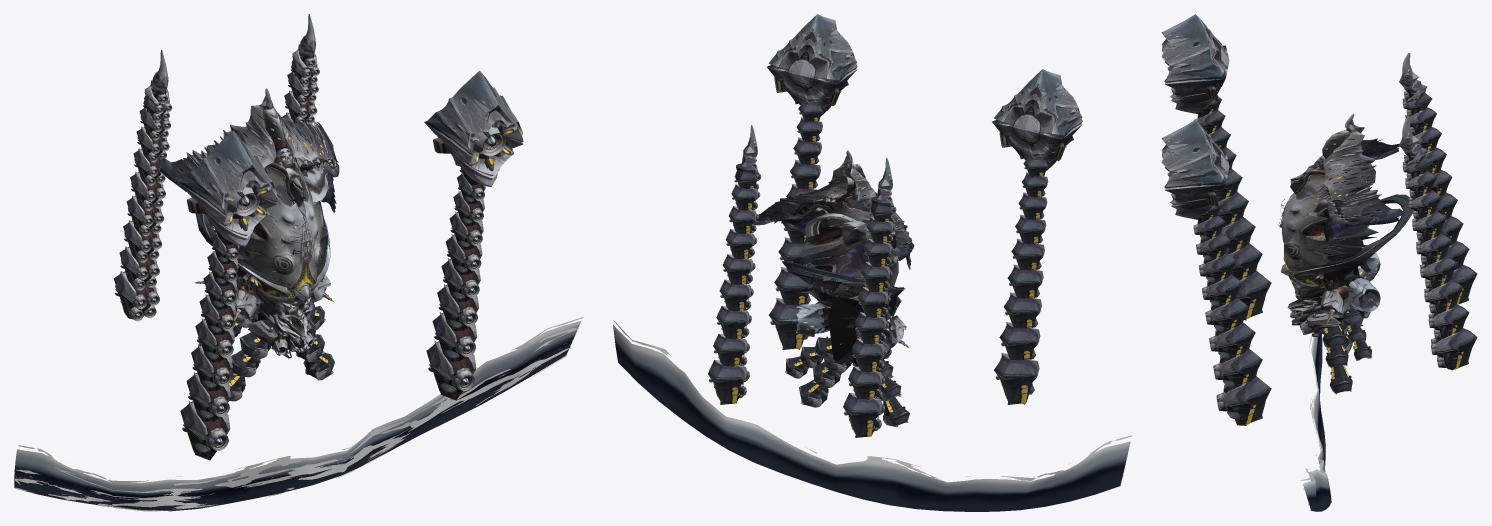
The model's file is bbg004_dmtr.glb.
The picture shows the model from 3 angles, left to right: view 1: azimuth 30°, elevation 25°; view 2: azimuth 150°, elevation 25°; view 3: azimuth 270°, elevation 25°; orthographic projection. The views are drawn at different scales.
Visible parts, largest first — view 1: bbg004_dmtr; view 2: bbg004_dmtr; view 3: bbg004_dmtr.
Boxes of the visible parts, x1,y1,x2,y2 form: bbg004_dmtr: [14, 14, 583, 511]; bbg004_dmtr: [613, 14, 1132, 511]; bbg004_dmtr: [1161, 14, 1477, 511].
Bounding box in the file's own units: 46.04 × 34.69 × 25.29.
13 materials, 13 textured.
